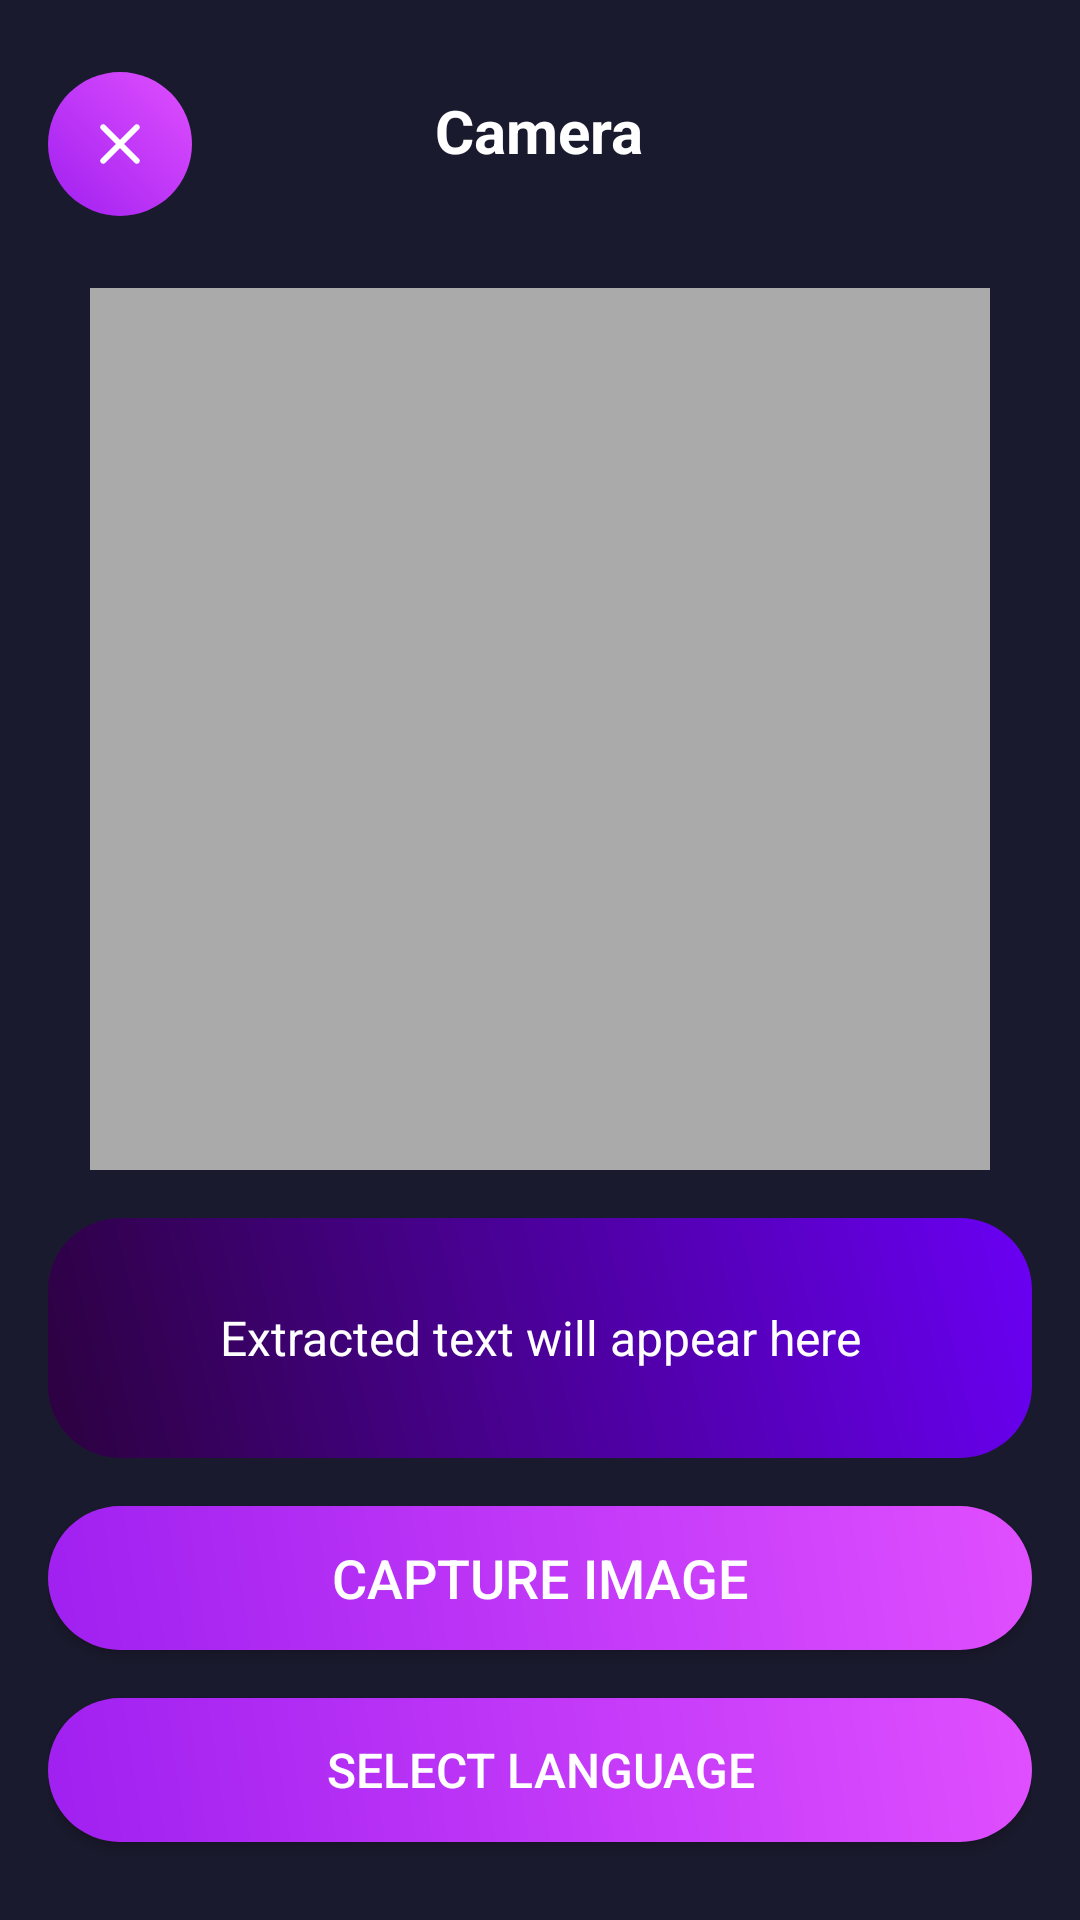

Where to tap for icons on this 1080×1920 app screen, as point (x, y):
Close: point (120, 144)
